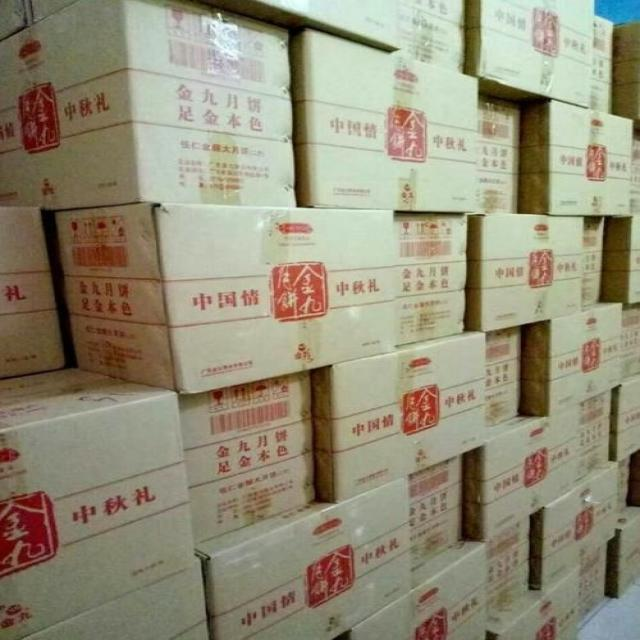box: (54, 203, 397, 397), (0, 0, 297, 211), (0, 367, 197, 639), (197, 477, 413, 639), (293, 26, 480, 213), (310, 332, 484, 504), (175, 371, 317, 545), (462, 404, 581, 543), (465, 214, 584, 333), (466, 0, 595, 108), (348, 540, 485, 640), (520, 99, 634, 218), (520, 302, 626, 417), (0, 206, 67, 380), (530, 464, 617, 592), (396, 213, 467, 348), (485, 567, 582, 638), (408, 455, 463, 573), (480, 97, 525, 213), (397, 1, 466, 74), (484, 517, 530, 622), (484, 326, 521, 429), (604, 218, 640, 304), (607, 506, 640, 599), (581, 389, 611, 482), (611, 374, 640, 464), (576, 546, 608, 620), (590, 15, 614, 113), (582, 216, 604, 308), (623, 308, 640, 383)
